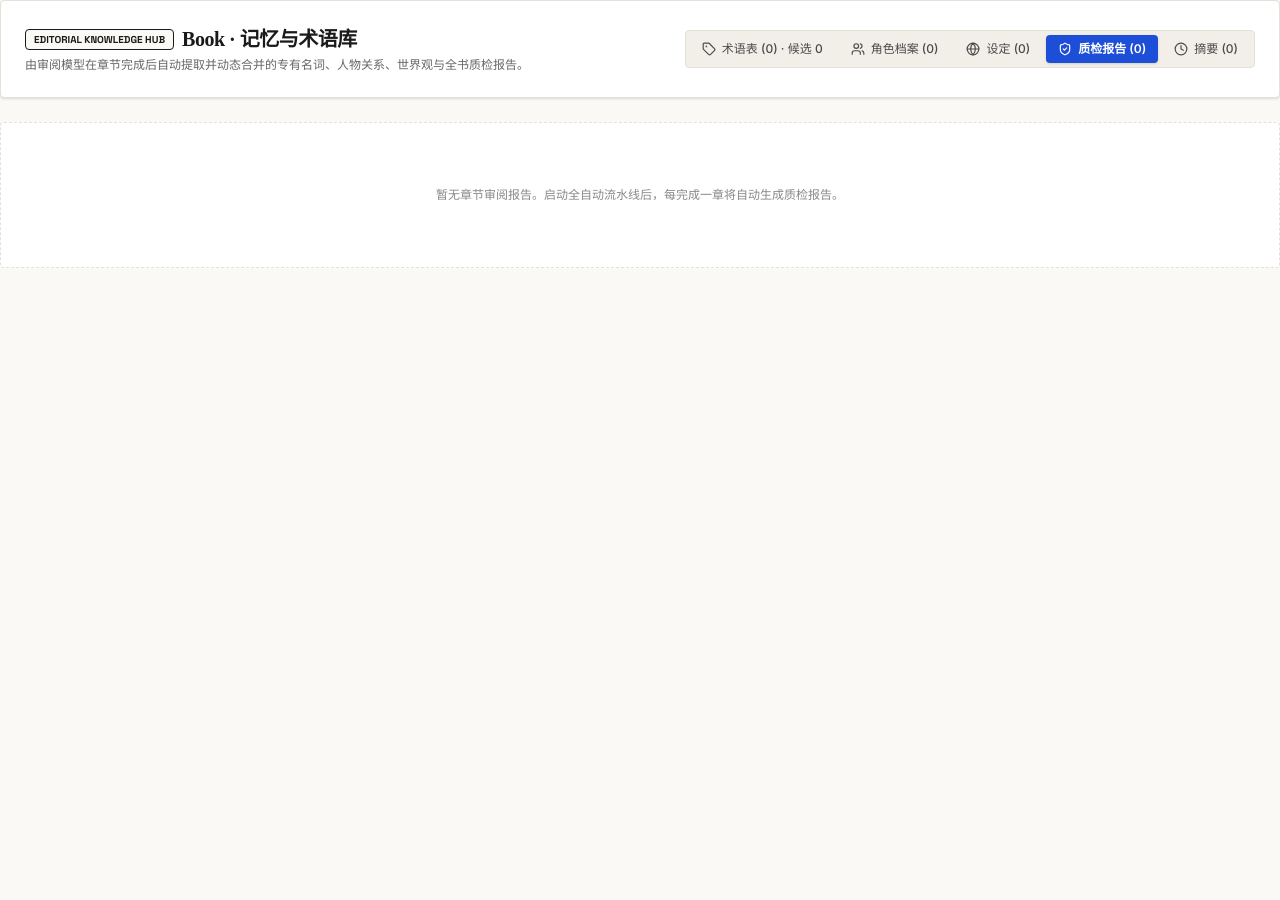
Test: Knowledge loading states › uses the incremental response without dropping glossary provenance
The width and height of the screenshot is (1280, 900).
Click the button "术语表 (0) · 候选 0".
click(762, 49)  # box [690, 35, 835, 63]
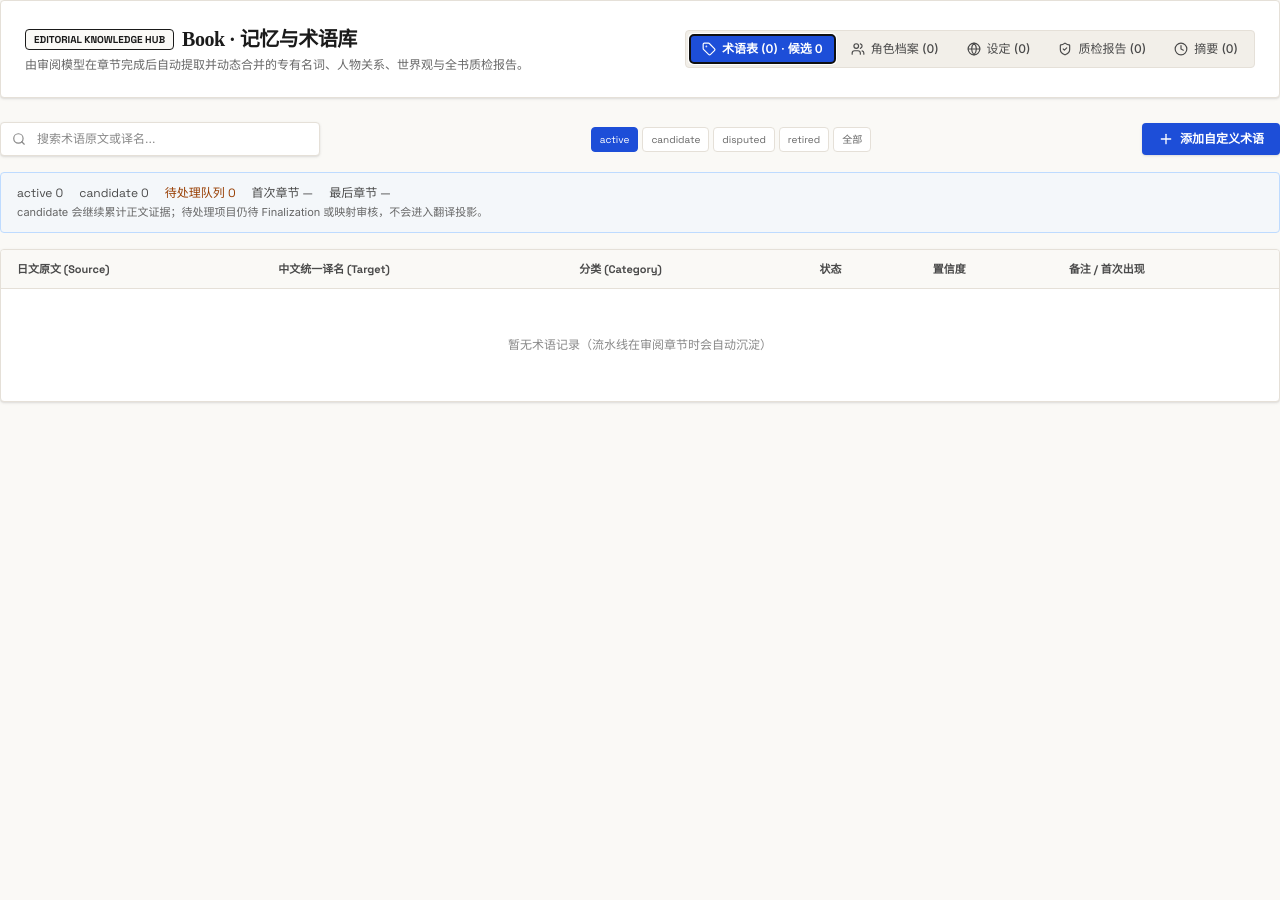
Click the button "添加自定义术语".
click(1211, 139)  # box [1142, 123, 1279, 155]
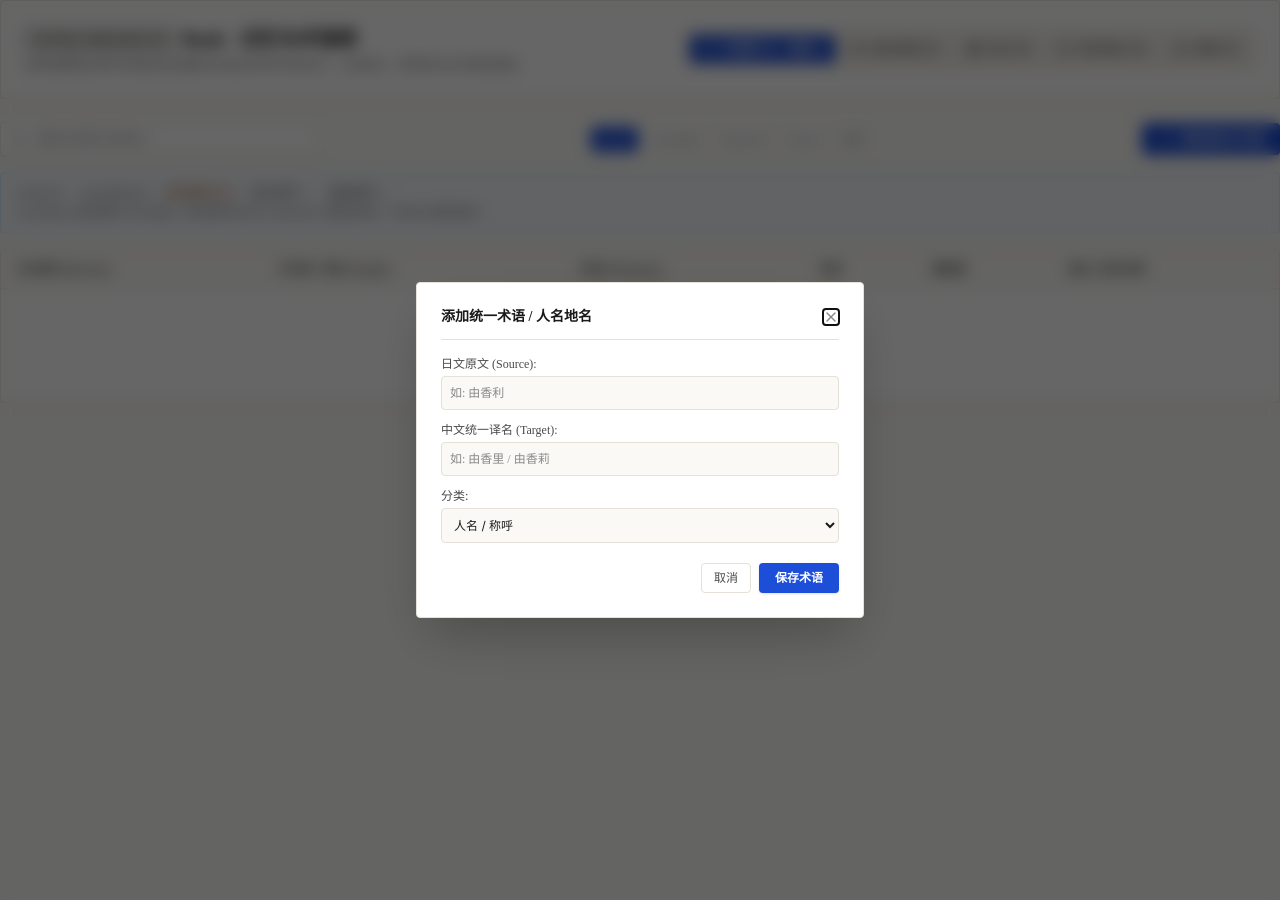
Type "名前" into the field labelled "日文原文 (Source):".
click(640, 393); type("名前")  # box [441, 376, 839, 410]
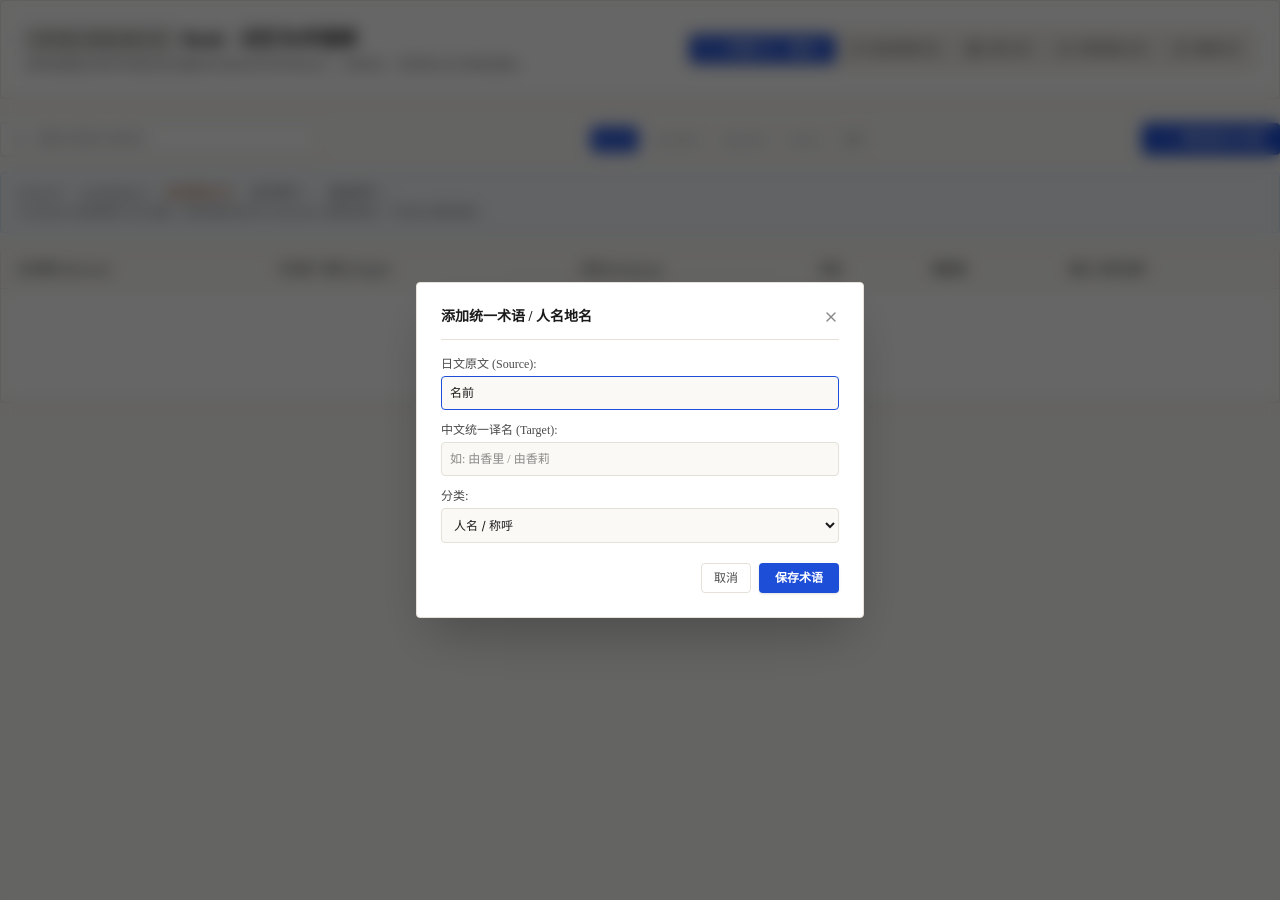
Type "名字" into the field labelled "中文统一译名 (Target):".
click(640, 459); type("名字")  # box [441, 442, 839, 476]
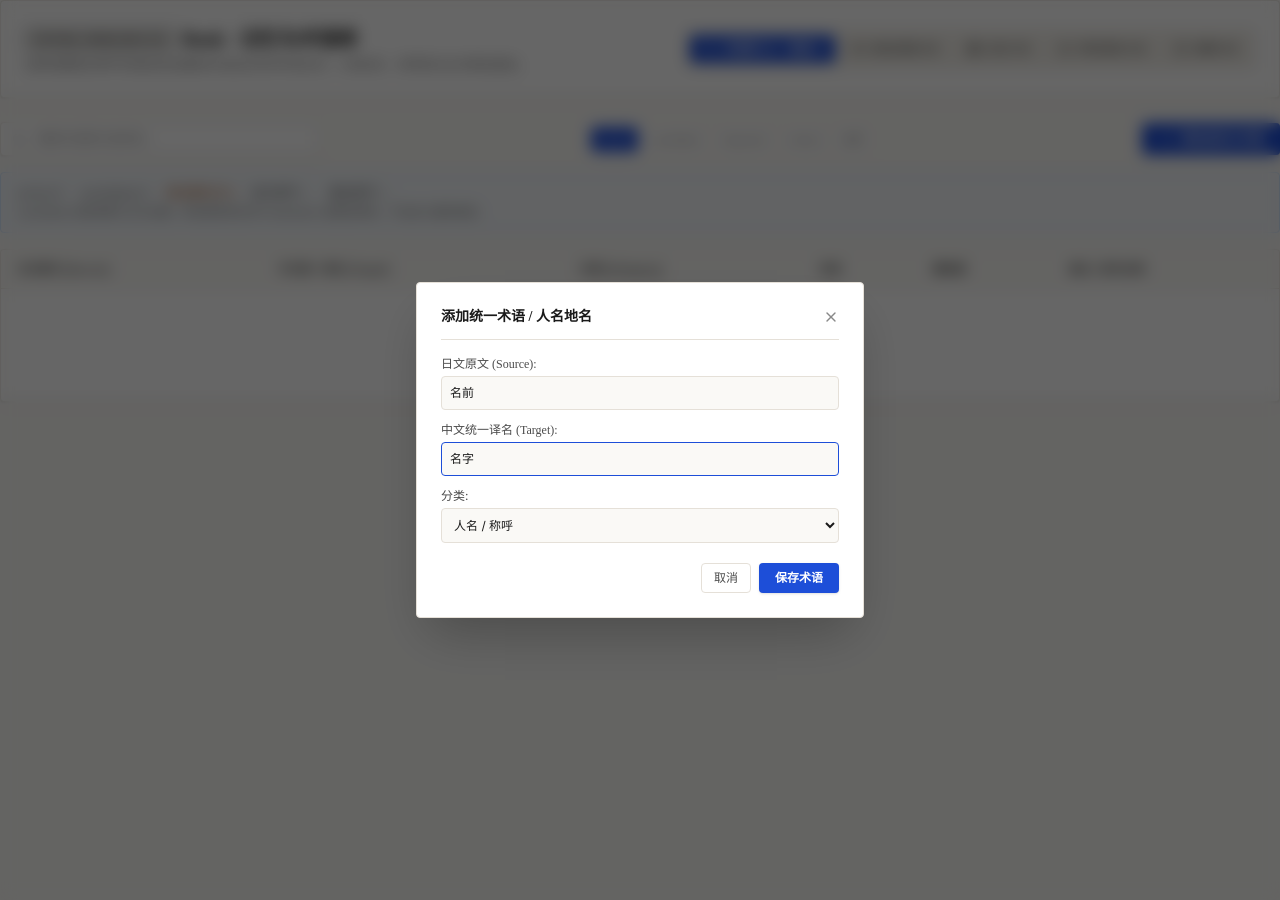
Click the button "保存术语".
click(799, 578)  # box [759, 563, 839, 593]
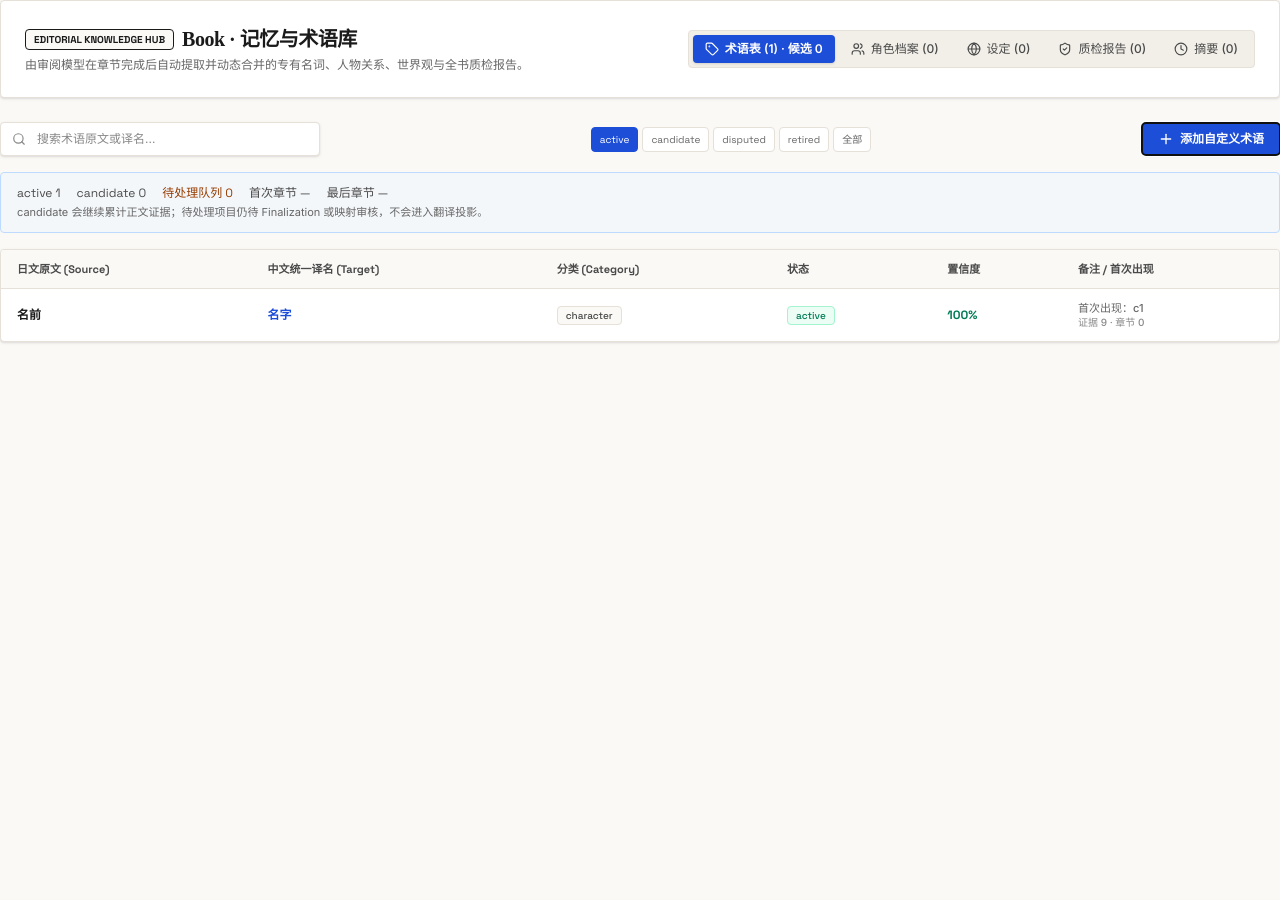
expect the text "名字" is shown: met, box [252, 289, 541, 341]
